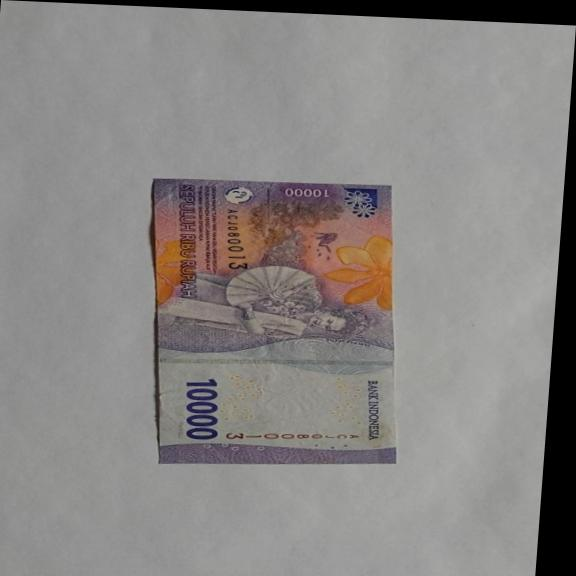Kertas: (130, 174, 418, 474), (180, 377, 223, 441)
